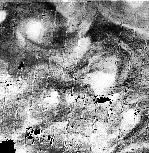AE: (12, 12, 51, 51)
